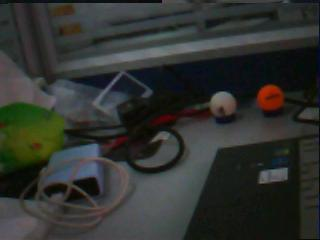oball: (257, 84, 283, 110)
